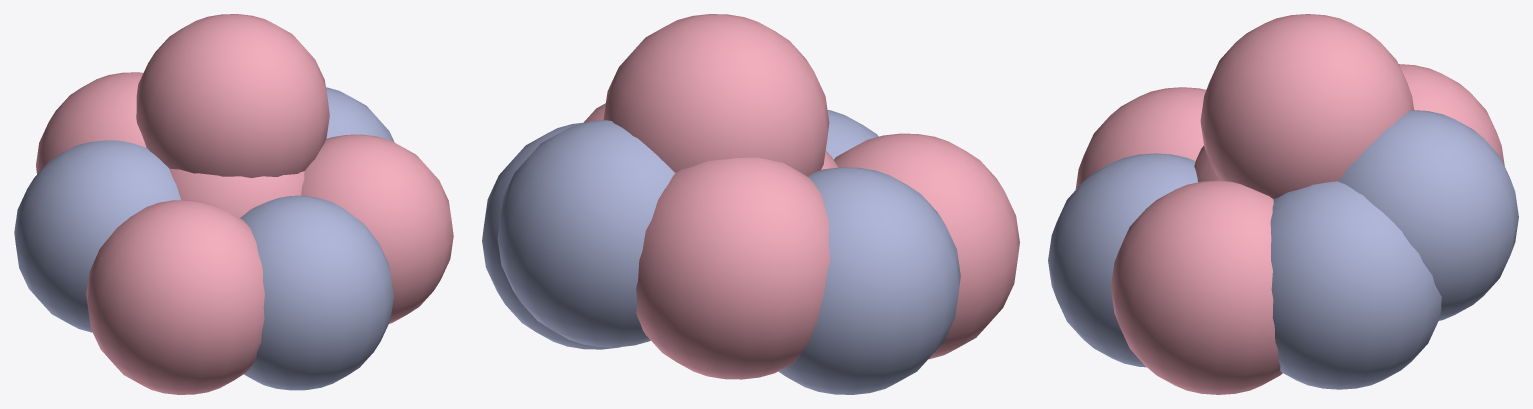
File: nucleus.glb
The picture shows the model from 3 angles, left to right: view 1: azimuth 30°, elevation 25°; view 2: azimuth 150°, elevation 25°; view 3: azimuth 270°, elevation 25°; orthographic projection. The views are drawn at different scales.
Visible parts, largest first — view 1: nucleus_nuclear_coral, nucleus_nuclear_indigo; view 2: nucleus_nuclear_coral, nucleus_nuclear_indigo; view 3: nucleus_nuclear_coral, nucleus_nuclear_indigo.
Part boxes in pixels (bbox=[...]): nucleus_nuclear_coral: bbox=[36, 14, 453, 394]; nucleus_nuclear_indigo: bbox=[14, 87, 394, 390]; nucleus_nuclear_coral: bbox=[584, 14, 1019, 379]; nucleus_nuclear_indigo: bbox=[482, 110, 960, 394]; nucleus_nuclear_coral: bbox=[1075, 14, 1504, 394]; nucleus_nuclear_indigo: bbox=[1048, 110, 1518, 389].
Size of the model in its own units: 2.12 by 1.66 by 2.1.
